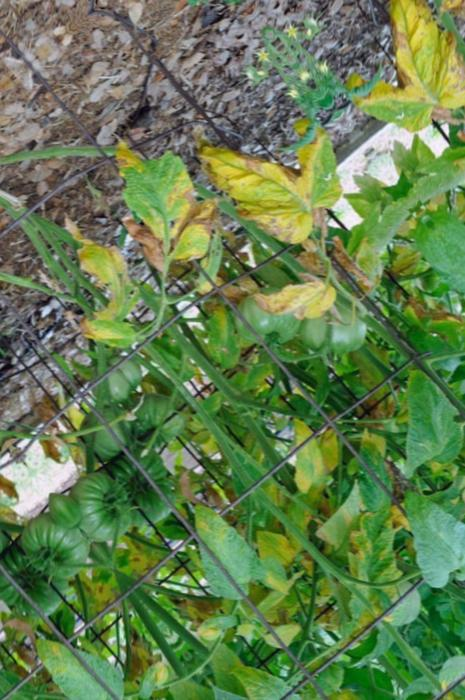Tomato Early blight leaf: (77, 118, 237, 284), (12, 208, 173, 372), (194, 117, 333, 264), (238, 244, 343, 350), (262, 416, 342, 497), (247, 518, 307, 580)
Tomato leaf: (372, 471, 465, 600), (370, 367, 465, 484)
